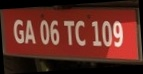character: (74, 19, 86, 46), (101, 19, 112, 47), (13, 18, 24, 44), (63, 20, 74, 45), (112, 20, 122, 47), (91, 20, 101, 46), (25, 19, 35, 44), (39, 19, 49, 44), (49, 20, 59, 45)
